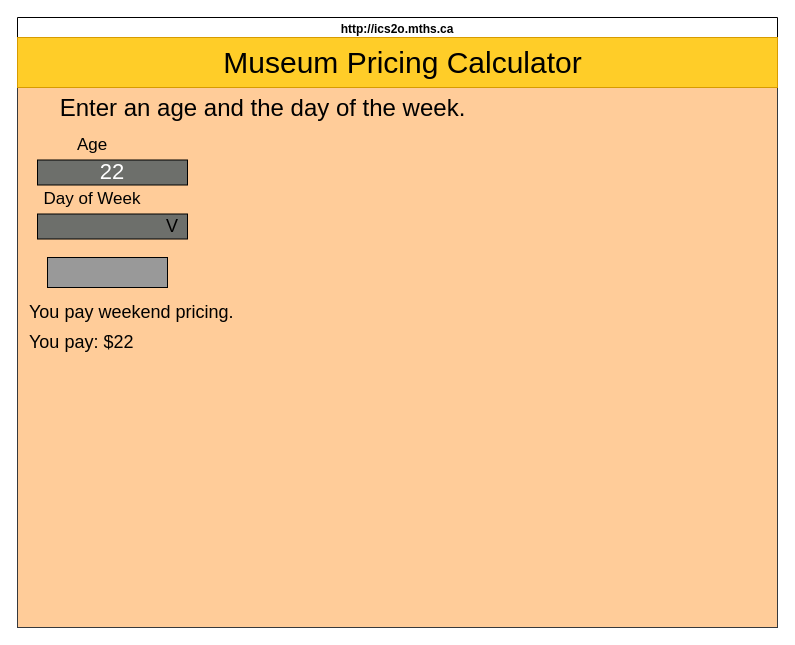
Image size: 795x645. Some labels were removed from this diagram. Here are the shapes that lost their labels. From the top down, the box of each, then its label:
(36, 213, 188, 239): Sunday
(46, 256, 168, 288): Calculate
